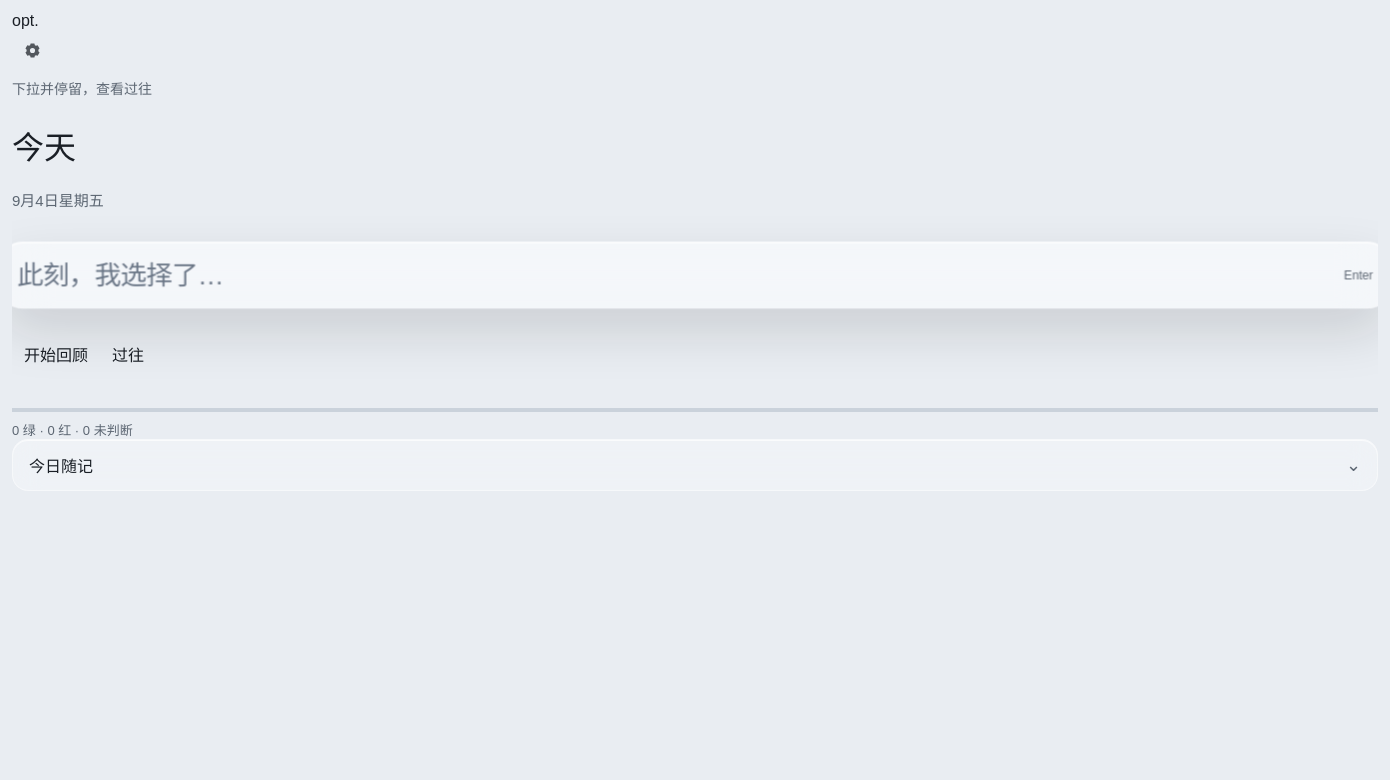
it: TodayPage › releases composer focus as soon as a choice is submitted
In the field named "记录此刻的选择": x=660, y=276 x1=17 y1=243 x2=1304 y2=308, type "  躺在床上玩手机  "
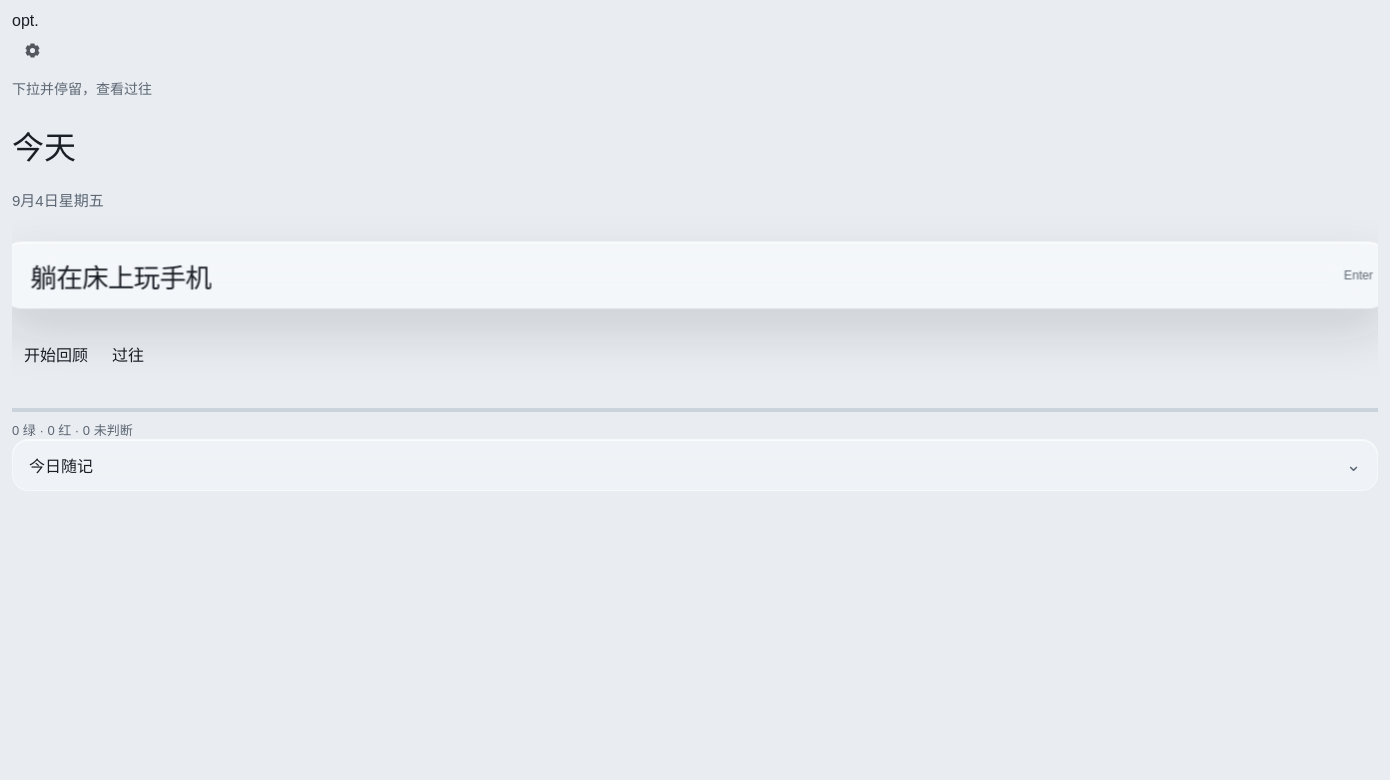
Press Enter in the field named "记录此刻的选择", box x1=17 y1=243 x2=1304 y2=308
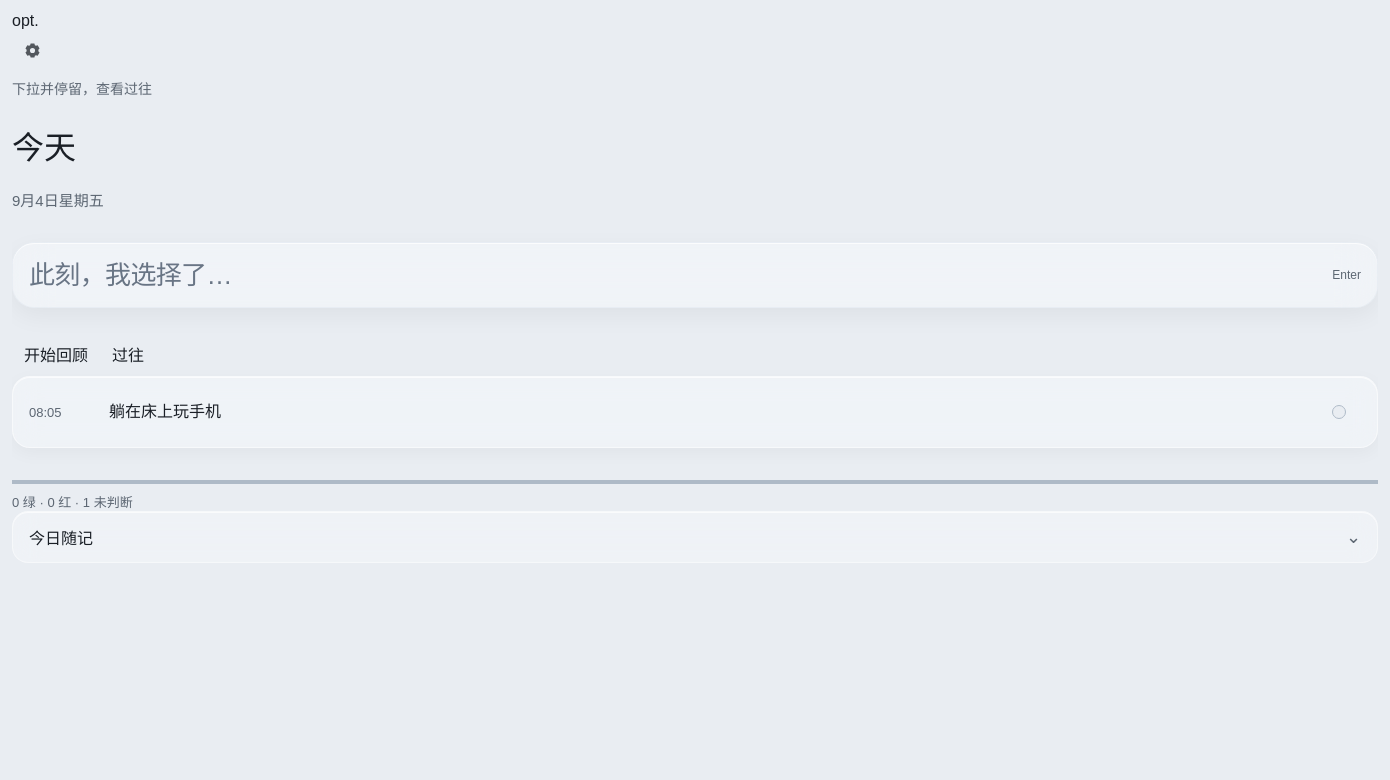
Check: the text "躺在床上玩手机" is shown, box x1=109 y1=403 x2=221 y2=420
Check: the field named "记录此刻的选择" is empty, box x1=29 y1=243 x2=1293 y2=307
